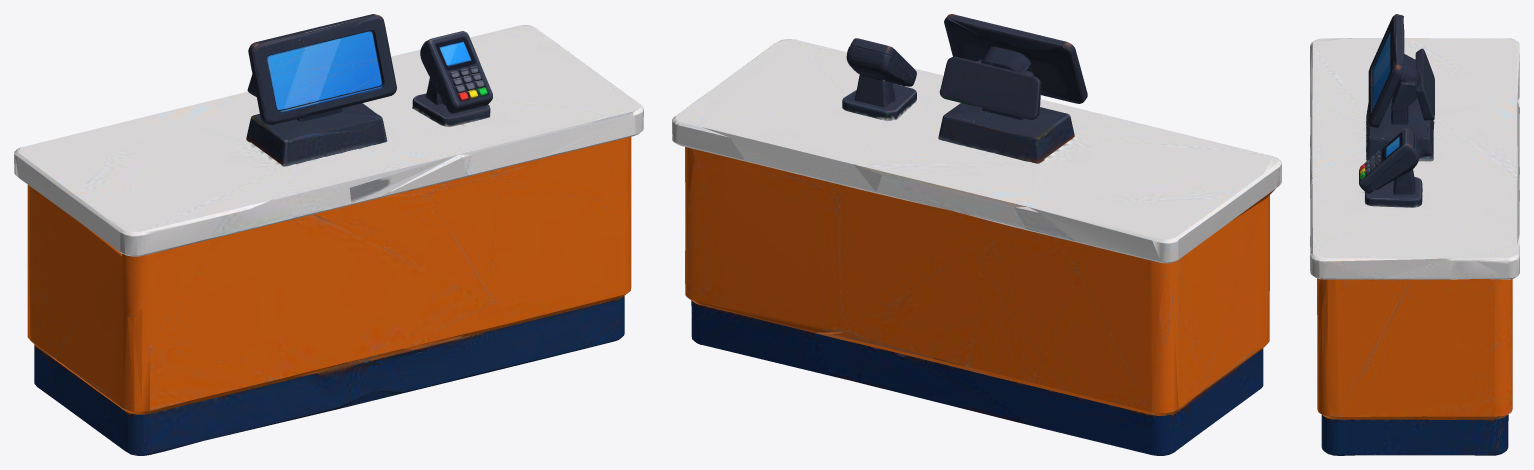
File: till.glb
3 views of the same model, side by side, from view 1: azimuth 30°, elevation 25°; view 2: azimuth 150°, elevation 25°; view 3: azimuth 270°, elevation 25° (orthographic). The views are drawn at different scales.
Bounding box in the file's own units: 1.9 × 1.2 × 0.7586.
1 material, 1 textured.
